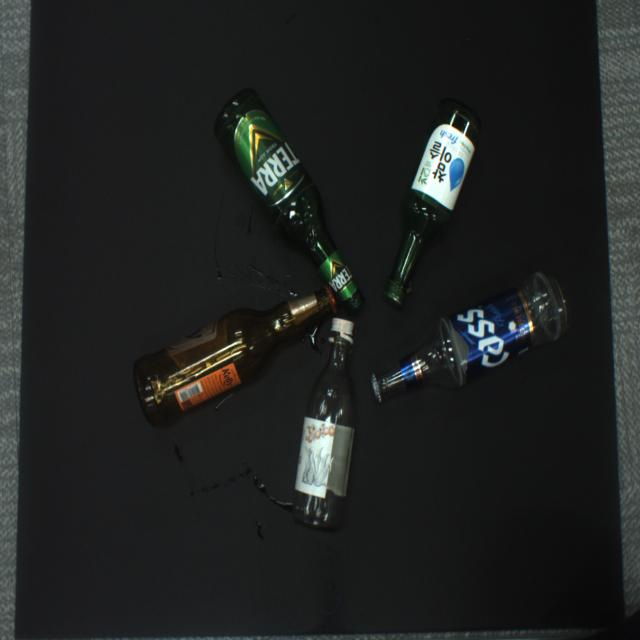beer-bottle: (216, 89, 364, 313), (133, 286, 337, 425), (371, 268, 573, 403)
soju-bottle: (384, 99, 482, 305), (292, 317, 356, 528)
